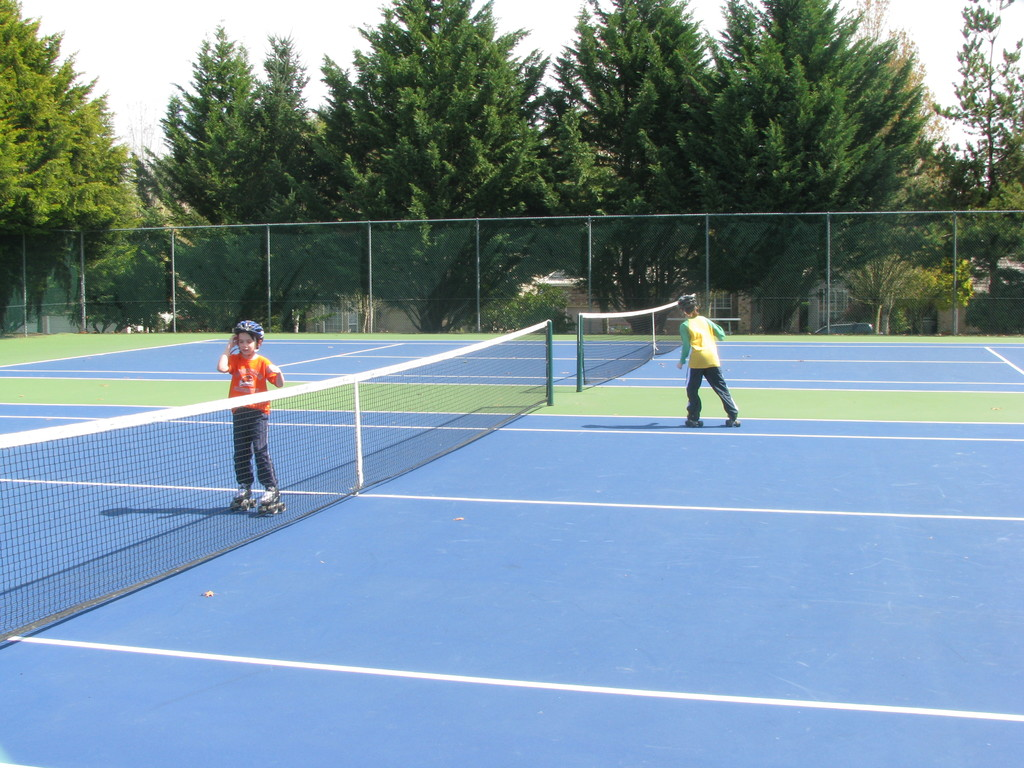Person: (216, 319, 286, 505), (679, 293, 740, 426)
